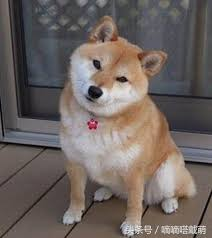dog: (64, 17, 171, 124)
